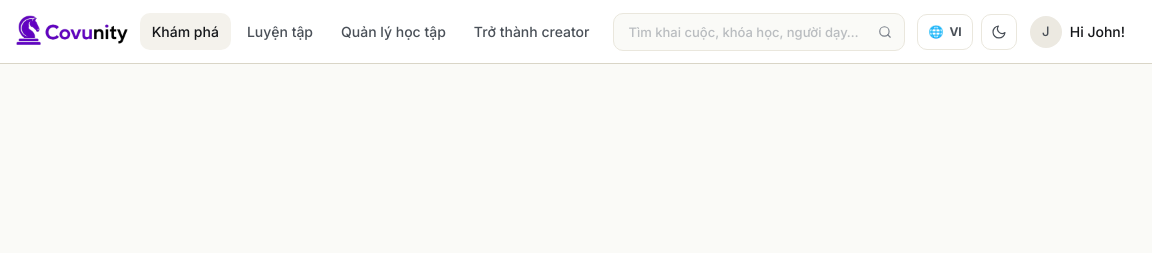
Test: TopNav › unread-orders dot indicator (PRD-0005 D12c) › shows the dot on the orders link when hasUnreadOrderUpdates resolves true
The width and height of the screenshot is (1152, 253).
Click the button with aria-label "hồ sơ" at x=1080, y=32, box [1025, 10, 1136, 52]
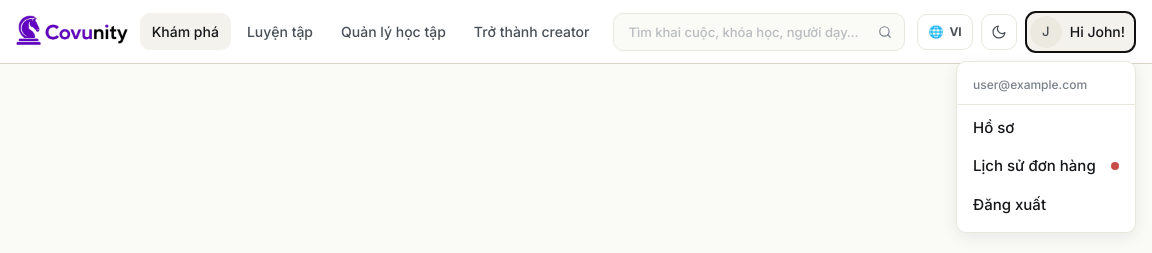
Now the menu item with test id "nav-orders-link" is shown, box [973, 156, 1119, 175]
Now the message with test id "topnav-orders-dot" is shown, box [1111, 162, 1119, 170]
